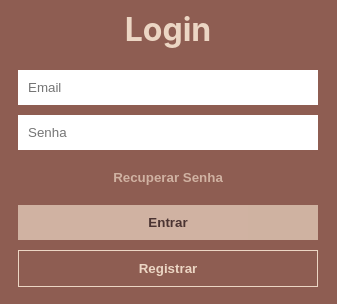
Test case: Login › given email, when valid, then enable recover password button
Type "valid@email.com" into the field with test id "email". click: (168, 88)
box: x1=18 y1=70 x2=318 y2=105
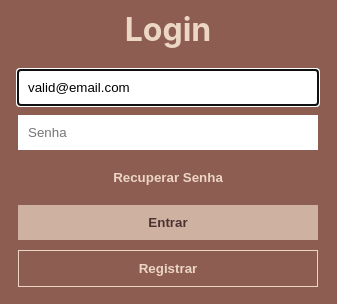
Now the button with test id "recover-password-button" is enabled, box x1=18 y1=160 x2=318 y2=195
